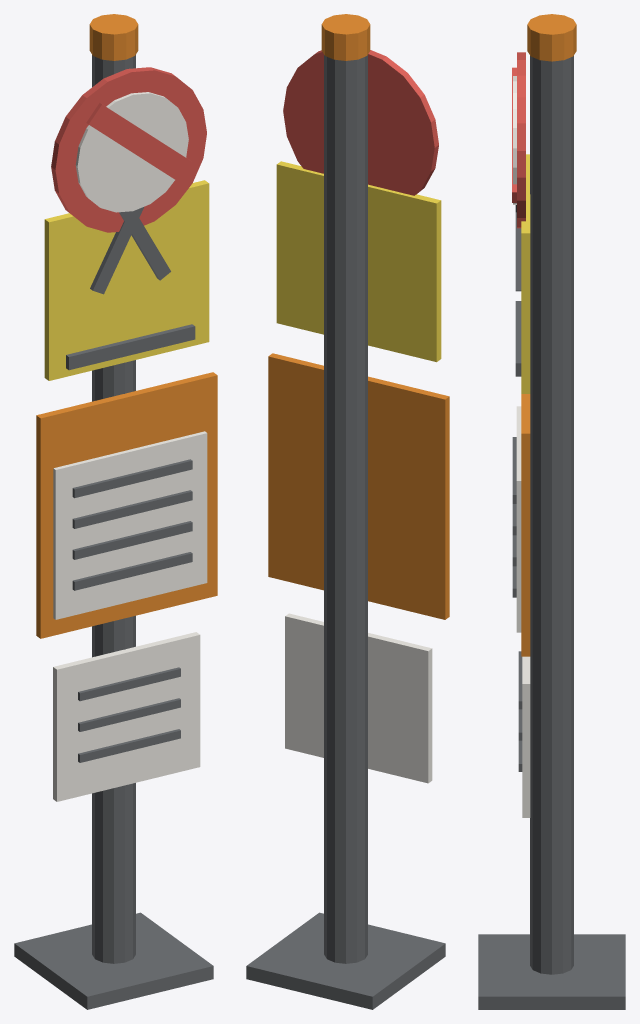
The model's file is self-storage-facility-and-loading-bay-self-storage-fac-145bc2f6__34732.glb.
3 views of the same model, side by side, from view 1: azimuth 30°, elevation 25°; view 2: azimuth 150°, elevation 25°; view 3: azimuth 270°, elevation 25° (orthographic).
Parts seen in each view (by area): view 1: self-storage-facility-and-loading-bay-safety-sign-set; view 2: self-storage-facility-and-loading-bay-safety-sign-set; view 3: self-storage-facility-and-loading-bay-safety-sign-set.
Part boxes in pixels (x1=…): self-storage-facility-and-loading-bay-safety-sign-set: x1=14, y1=14, x2=217, y2=1009; self-storage-facility-and-loading-bay-safety-sign-set: x1=246, y1=14, x2=449, y2=1009; self-storage-facility-and-loading-bay-safety-sign-set: x1=478, y1=14, x2=625, y2=1009.
Size of the model in its own units: 0.42 by 2.14 by 0.2999.
